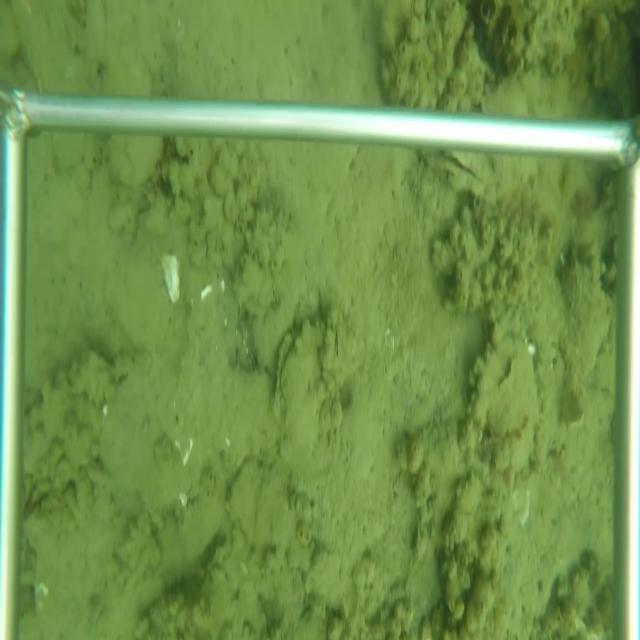Oyster-Closed: (272, 321, 323, 431)
Oyster-Indeterminate: (563, 261, 612, 403), (469, 333, 539, 432)
Oyster-Open: (418, 150, 497, 205)
